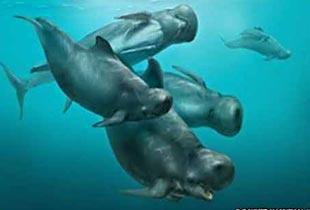fish: (12, 14, 172, 121)
